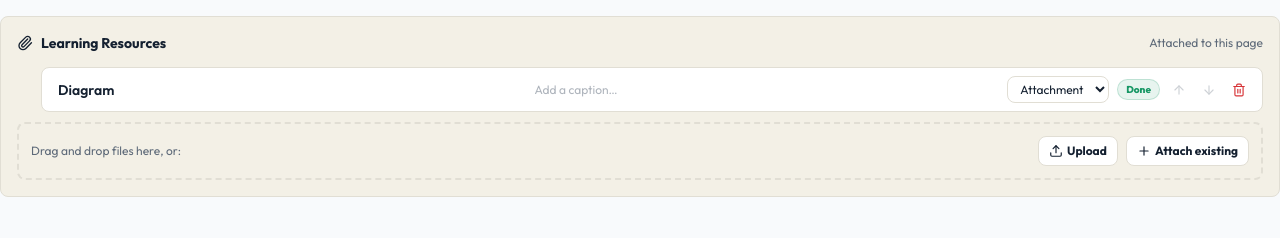
Test: LearningResourcesBlock NodeView › delete-in-use conflict (Story 8.3) › a plain (non-409) delete failure shows the ordinary single error, never the two-action UI
The width and height of the screenshot is (1280, 238).
Expected: the text "Learning Resources" is shown, [41,33,166,53]
Click the button named "Remove Diagram".
click(1239, 90)  # box [1228,78,1250,100]
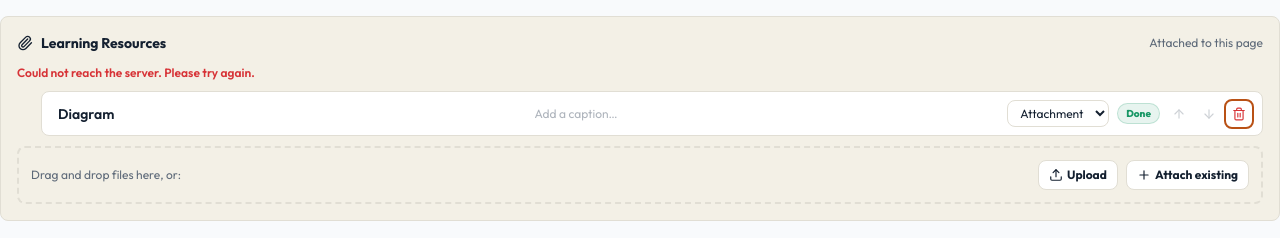
Now the message reads "Could not reach the server. Please try again.", box [17,65,255,80]
